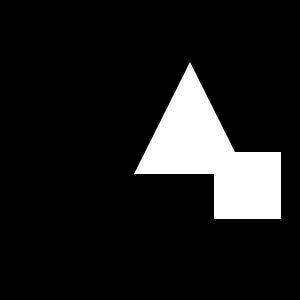circle: (214, 152, 281, 219)
triangle: (134, 62, 246, 174)
